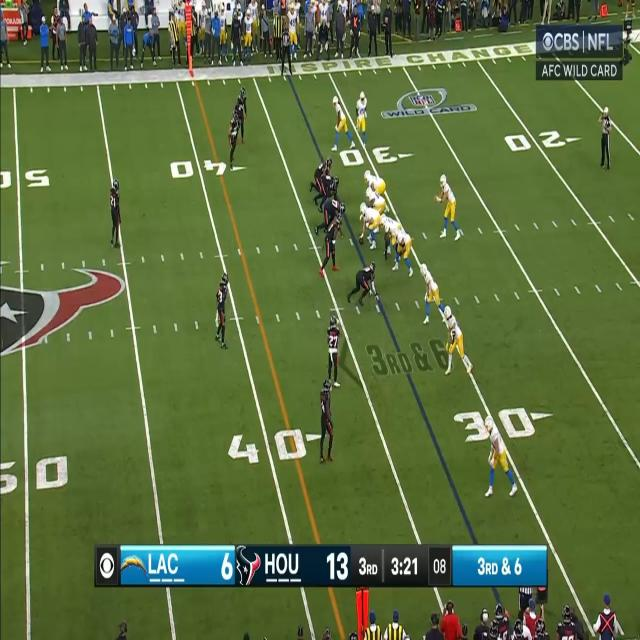Player: (484, 416, 509, 494), (444, 305, 468, 371), (421, 263, 442, 324), (441, 173, 457, 242), (320, 379, 333, 463), (323, 217, 342, 274), (353, 261, 375, 305), (394, 229, 414, 277), (360, 203, 380, 250), (332, 96, 349, 148), (218, 272, 227, 349), (328, 315, 338, 382), (111, 180, 120, 248), (317, 175, 338, 203), (238, 87, 248, 145), (321, 198, 347, 220), (357, 90, 367, 146), (230, 109, 239, 170), (364, 170, 386, 193), (380, 213, 400, 238), (366, 187, 386, 211), (314, 155, 332, 181)
Referee: (600, 105, 610, 172), (282, 25, 291, 77)
